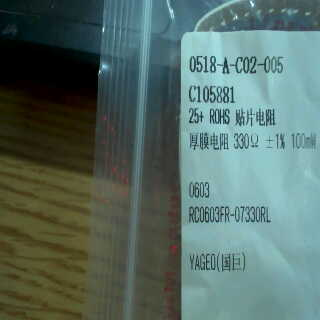330R: (233, 132, 262, 153)
